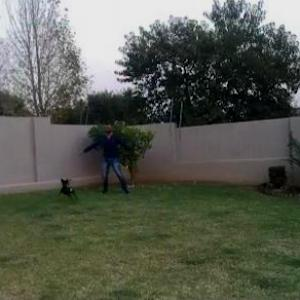land: (79, 113, 147, 204)
